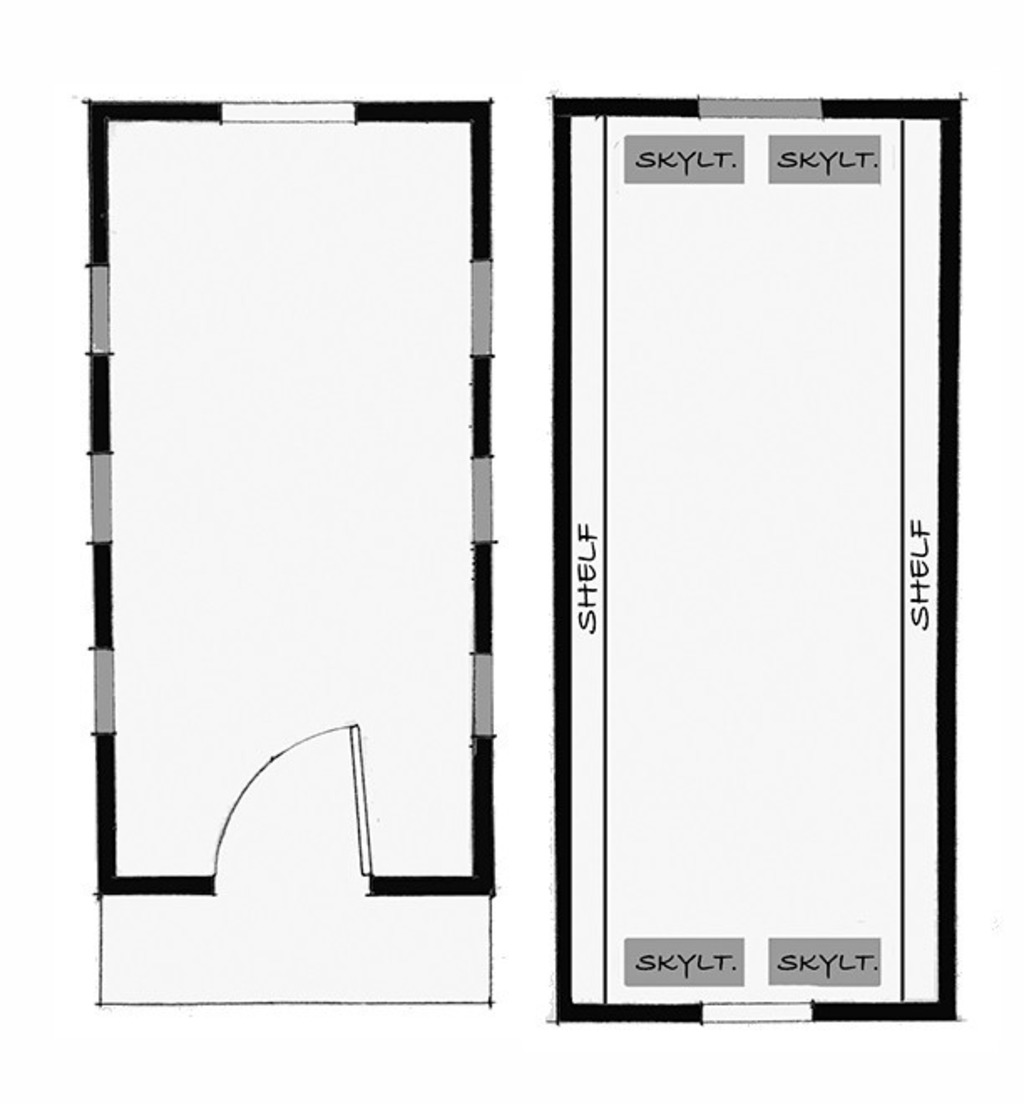door: (188, 727, 400, 900)
window: (202, 93, 364, 141), (680, 91, 847, 127), (454, 650, 513, 750), (81, 641, 137, 746), (64, 257, 121, 355), (459, 452, 509, 550), (464, 259, 506, 362), (692, 1002, 821, 1031), (88, 455, 121, 557)
